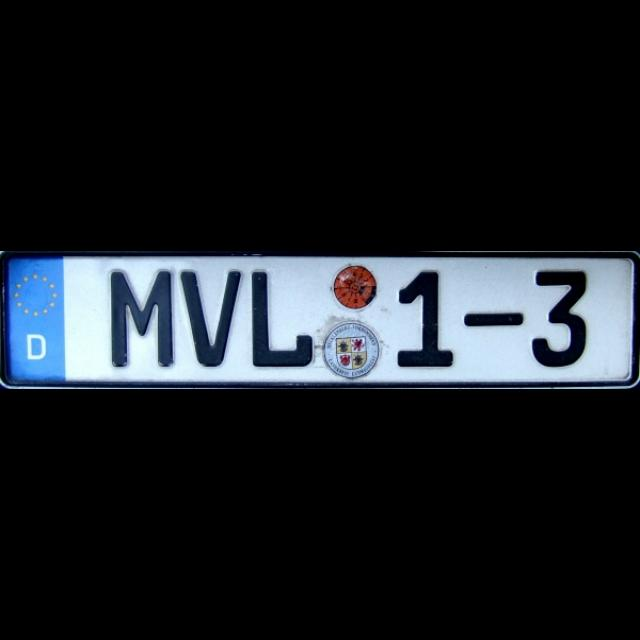d_license_plate: (5, 255, 631, 378)
